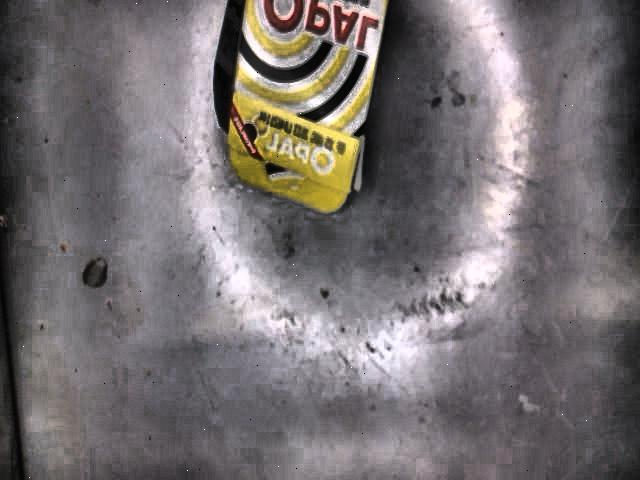Paper: (211, 0, 388, 210)
